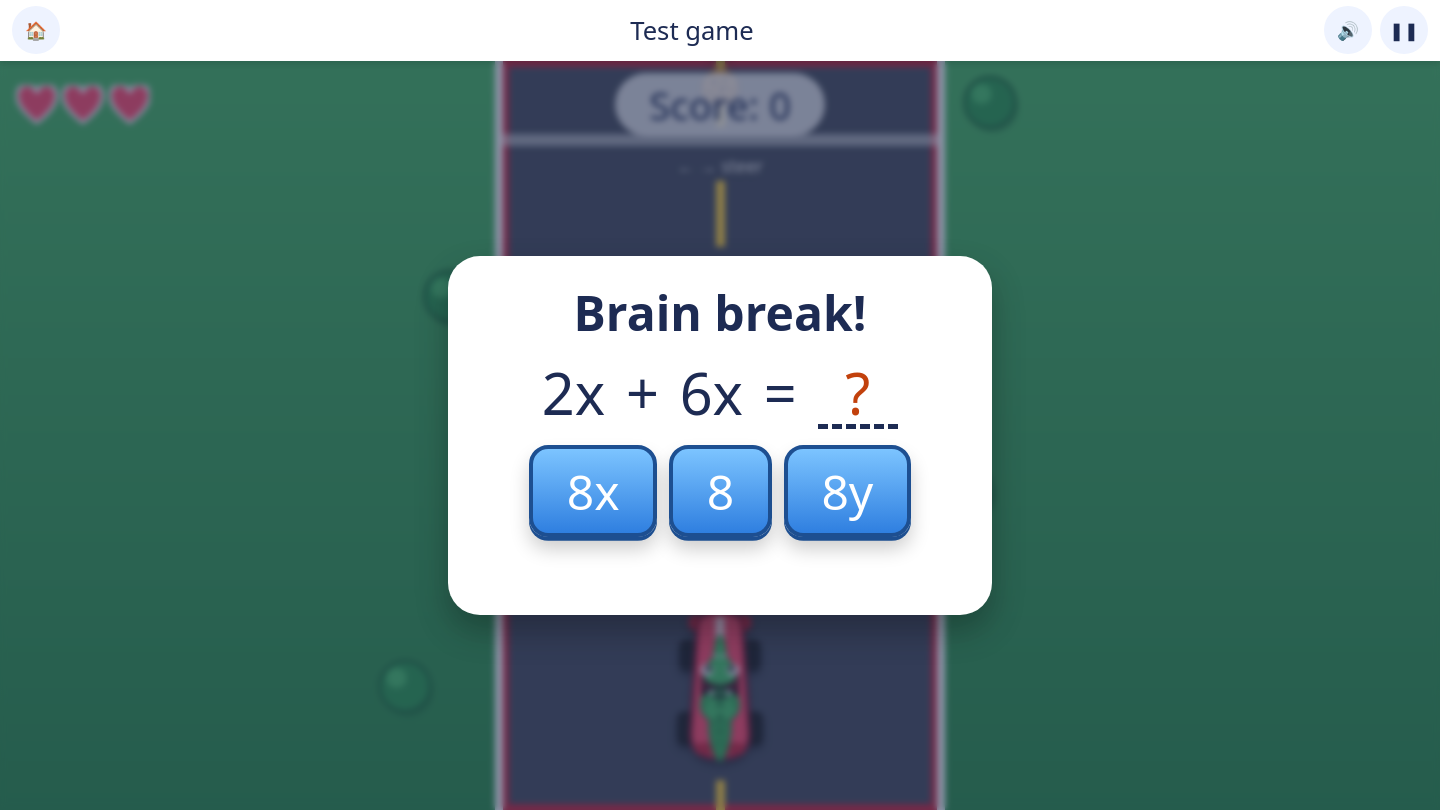
Test case: brain breaks › is kind about a wrong answer: it greys out, a hint appears, and the question stays
This screenshot has width=1440, height=810.
Click the button "8": (720, 491) [669, 445, 772, 537]
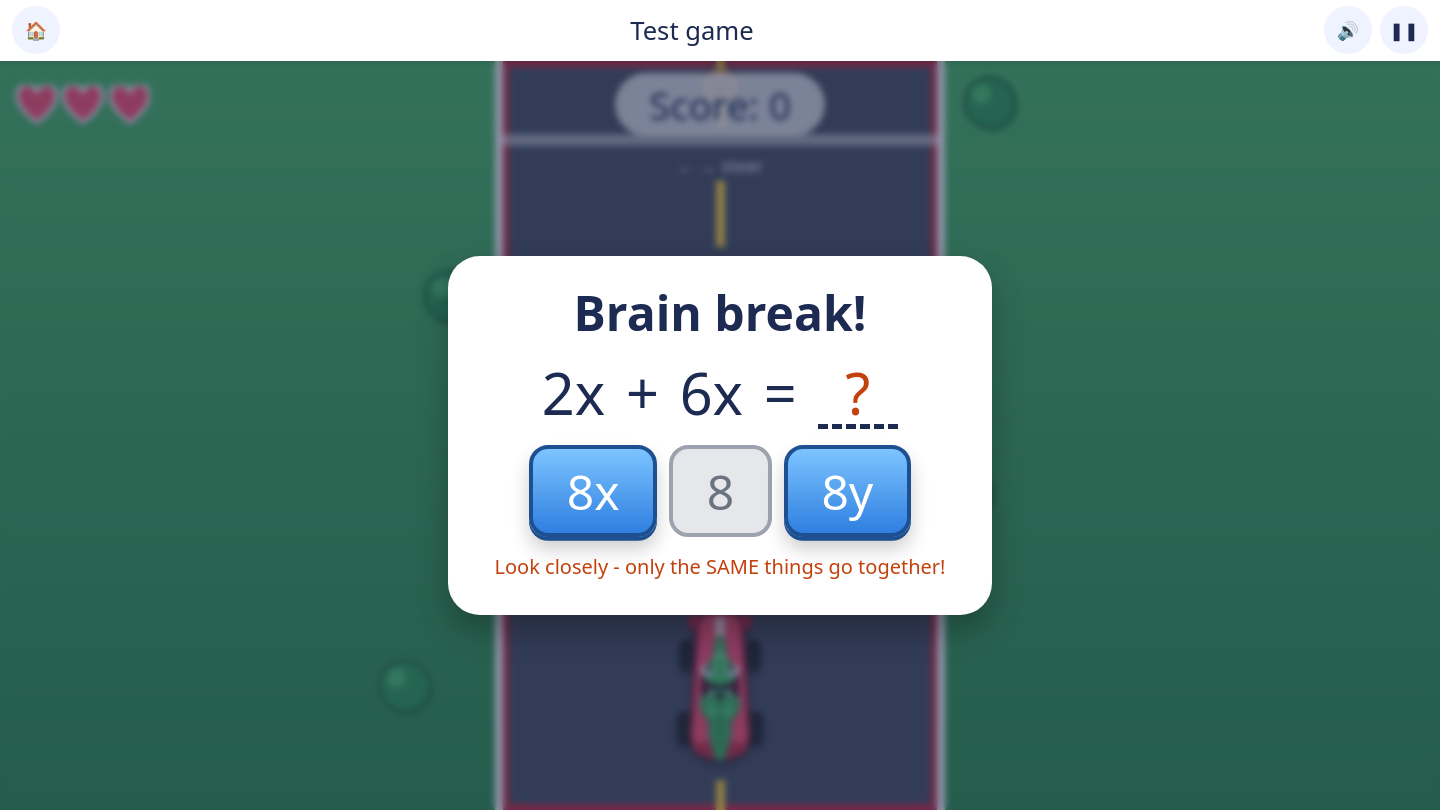
Now the button "8" is disabled, box [669, 445, 772, 537]
Now the text "Look closely - only the SAME things go together!" is shown, box [494, 553, 946, 583]
